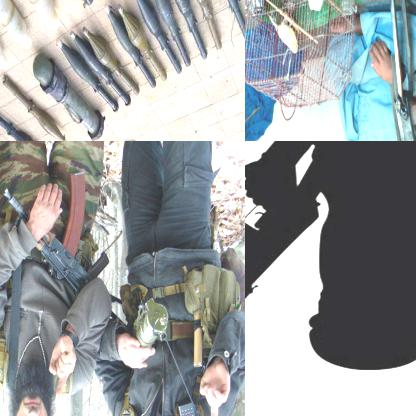rifle: (245, 159, 324, 415), (3, 172, 119, 313)
